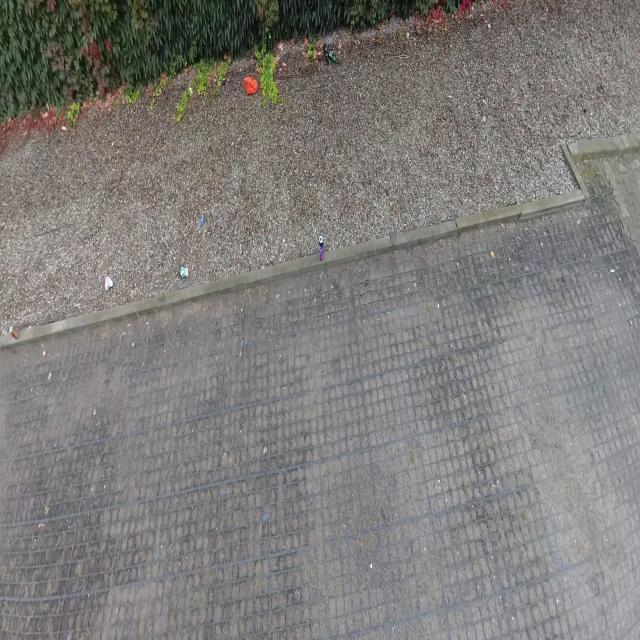rubbish: (241, 75, 259, 96), (327, 49, 340, 66), (322, 45, 329, 68), (318, 236, 324, 261), (104, 276, 113, 291), (9, 326, 19, 339), (179, 266, 188, 278), (200, 215, 205, 225)
